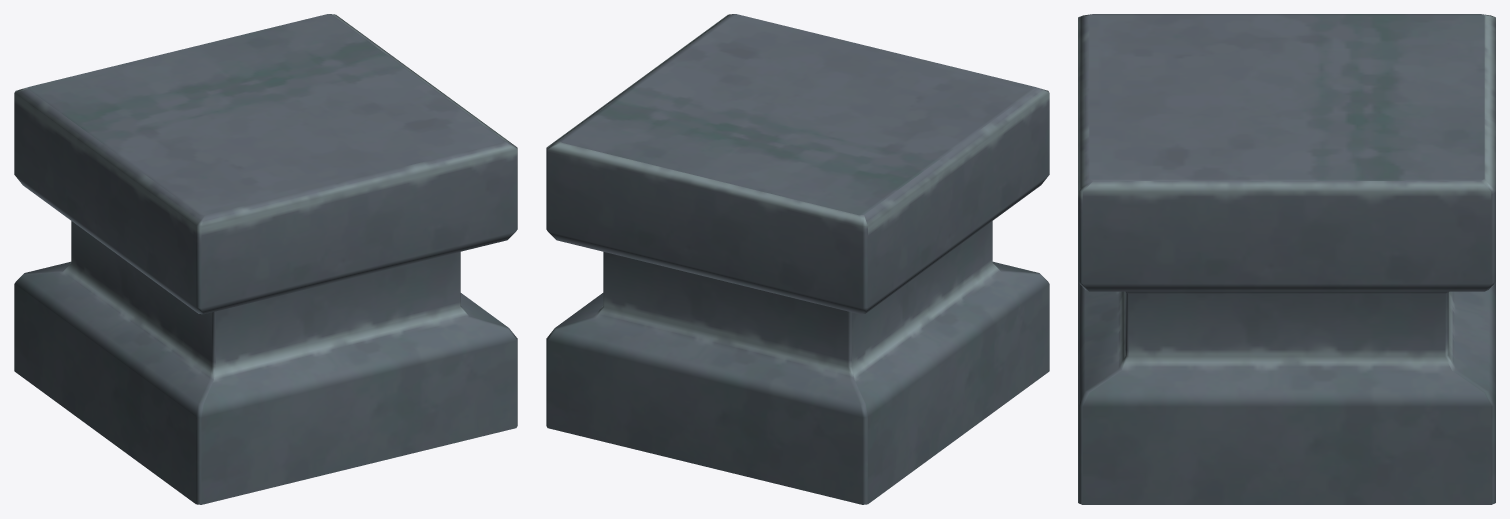
File: Pillar_Base.fbx
The picture shows the model from 3 angles, left to right: view 1: azimuth 30°, elevation 25°; view 2: azimuth 150°, elevation 25°; view 3: azimuth 270°, elevation 25°; orthographic projection. The views are drawn at different scales.
Visible parts, largest first — view 1: Pillar_Base; view 2: Pillar_Base; view 3: Pillar_Base.
Boxes of the visible parts, x1,y1,x2,y2 form: Pillar_Base: (14, 14, 517, 504); Pillar_Base: (546, 14, 1049, 504); Pillar_Base: (1078, 14, 1495, 504).
Bounding box in the file's own units: 94.98 × 80.1 × 94.98.
Materials: 1 (1 with a texture image).
